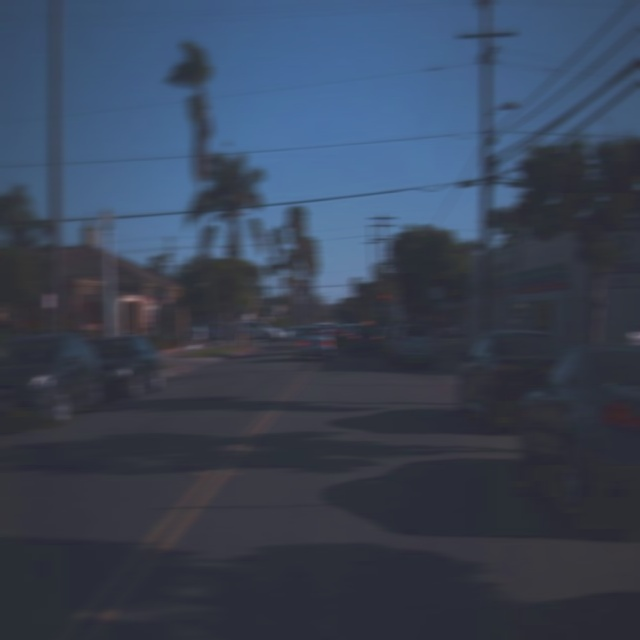stop: (381, 294, 387, 306)
stop traffic light: (381, 294, 387, 306)
